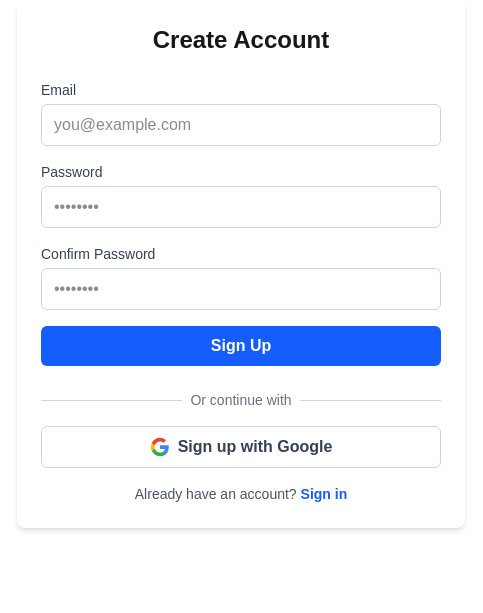
Test case: RegisterForm › Password Confirmation Matching › should show error when passwords do not match
The width and height of the screenshot is (483, 613).
Type "Password123!" into the password field labelled "Password".
click(241, 207); type("Password123!")  # box [41, 186, 441, 228]
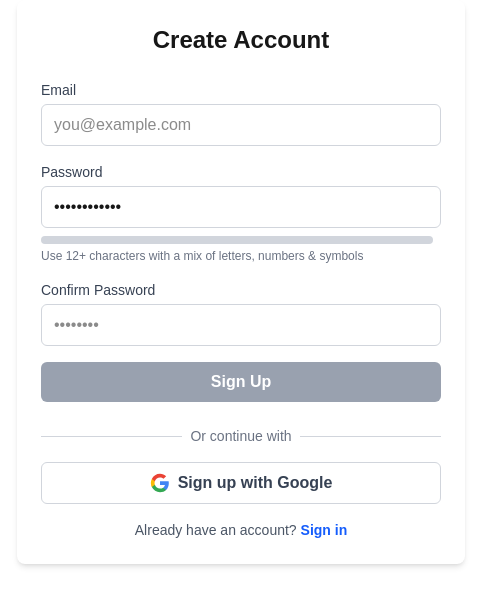
Type "Different123!" into the password field labelled "Confirm Password".
click(241, 325); type("Different123!")  # box [41, 304, 441, 346]
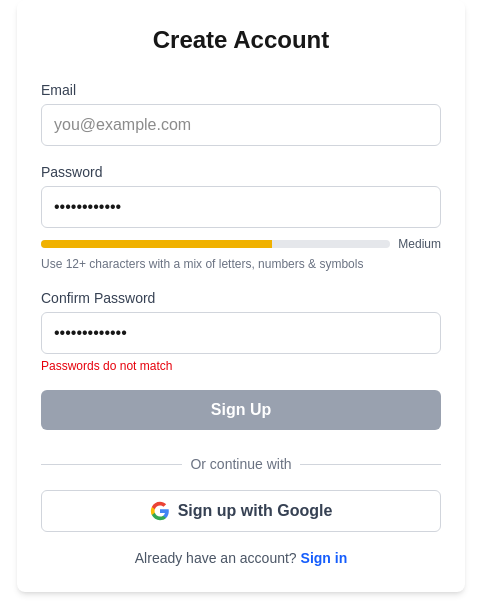
Expected: the text "Passwords do not match" is shown, [41, 359, 172, 373]
